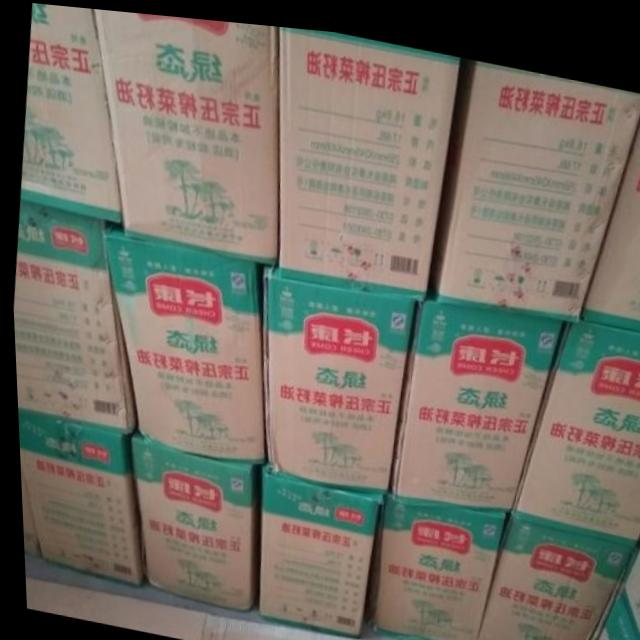box: (426, 49, 640, 312), (274, 21, 462, 287), (93, 7, 280, 261), (388, 287, 562, 502), (103, 221, 263, 453), (262, 260, 418, 488), (504, 308, 640, 536), (11, 200, 133, 432), (126, 422, 261, 606), (254, 452, 381, 630), (14, 409, 140, 587), (19, 3, 119, 222), (364, 488, 506, 640), (472, 507, 630, 640), (579, 108, 640, 318), (585, 523, 640, 640), (17, 474, 33, 555)
